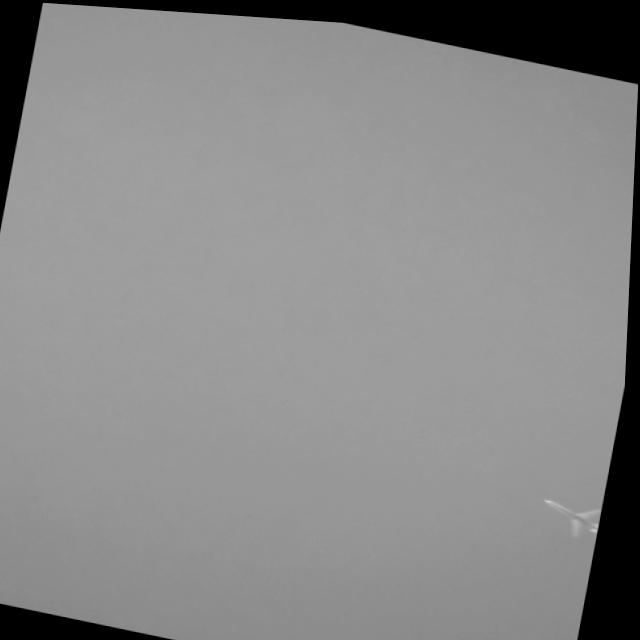aeroplane: (532, 483, 607, 535)
